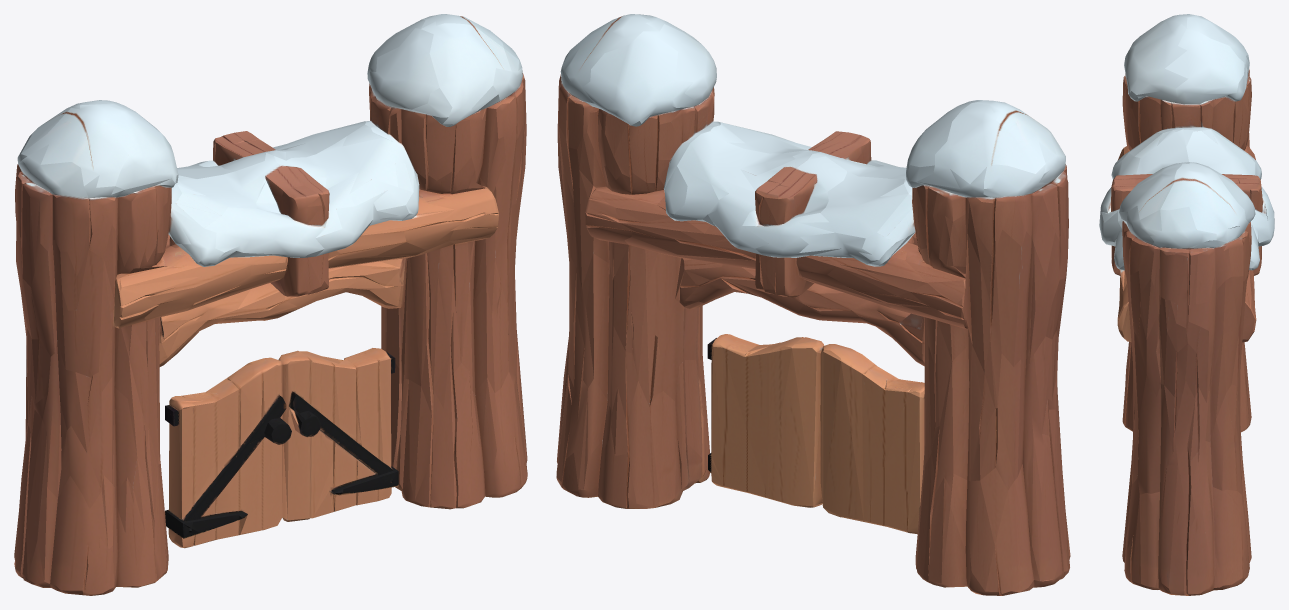
Rendered from gate.glb.
3 views of the same model, side by side, from view 1: azimuth 30°, elevation 25°; view 2: azimuth 150°, elevation 25°; view 3: azimuth 270°, elevation 25° (orthographic). The views are drawn at different scales.
Size of the model in its own units: 1.9 by 1.67 by 0.6653.
Materials: 1 (1 with a texture image).
